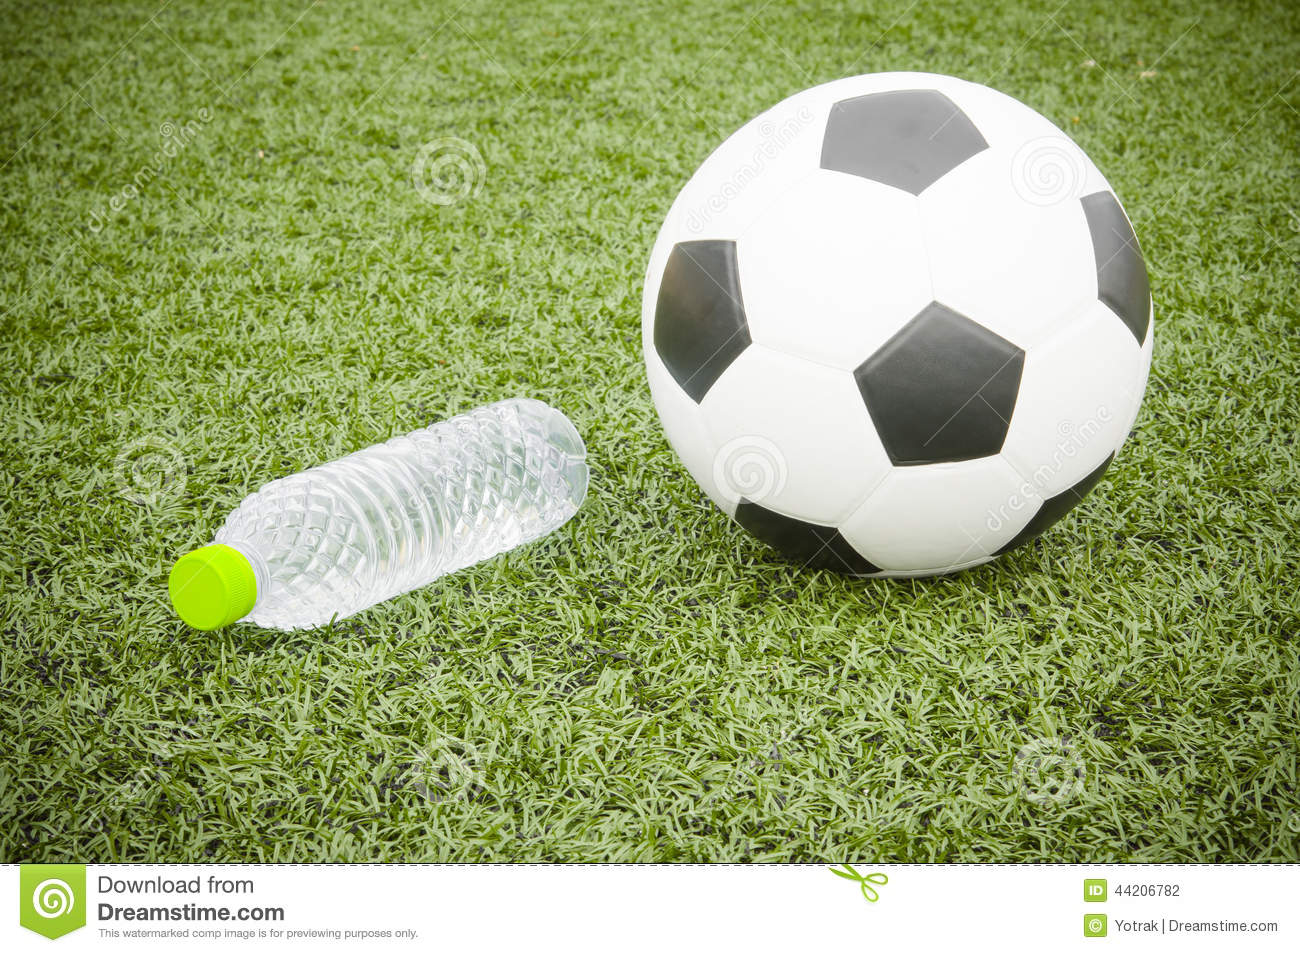plastic_bottle: (153, 385, 597, 644)
